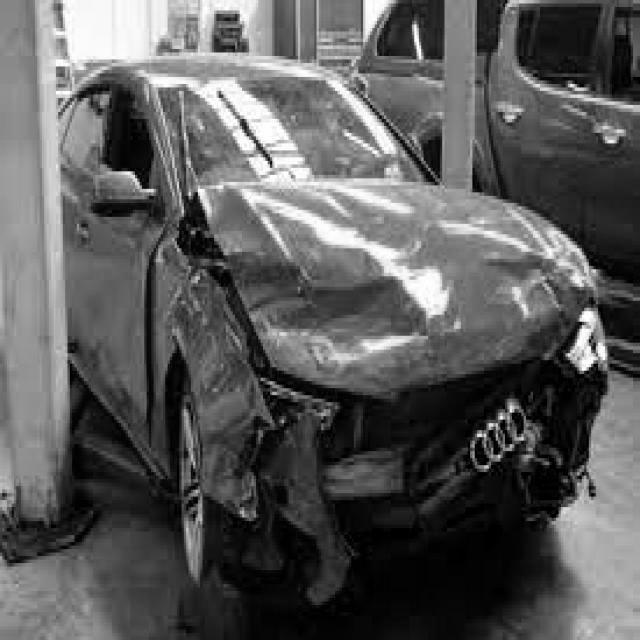bonnet-dent: (219, 179, 621, 364)
fender-dent: (149, 231, 256, 539)
front-bumper-dent: (220, 358, 625, 613)
